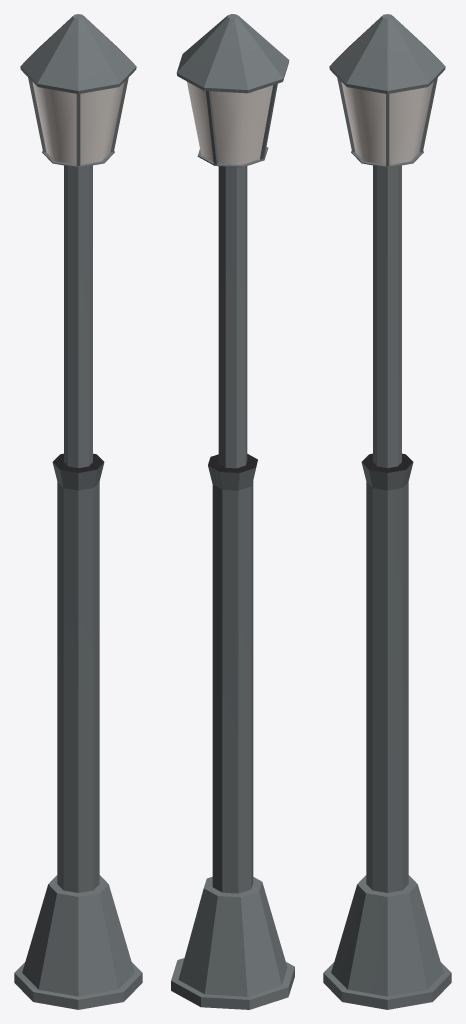
File: SM_Lamp_01.fbx
3 renders of one model, left to right at view 1: azimuth 90°, elevation 25°; view 2: azimuth 150°, elevation 25°; view 3: azimuth 270°, elevation 25°, orthographic.
Visible parts, largest first — view 1: SM_Lamp_01; view 2: SM_Lamp_01; view 3: SM_Lamp_01.
Boxes of the visible parts, x1,y1,x2,y2 form: SM_Lamp_01: [14, 14, 142, 1009]; SM_Lamp_01: [171, 14, 294, 1009]; SM_Lamp_01: [323, 14, 451, 1009].
Size of the model in its own units: 35.32 by 294 by 35.32.
Materials: 1 (1 with a texture image).
